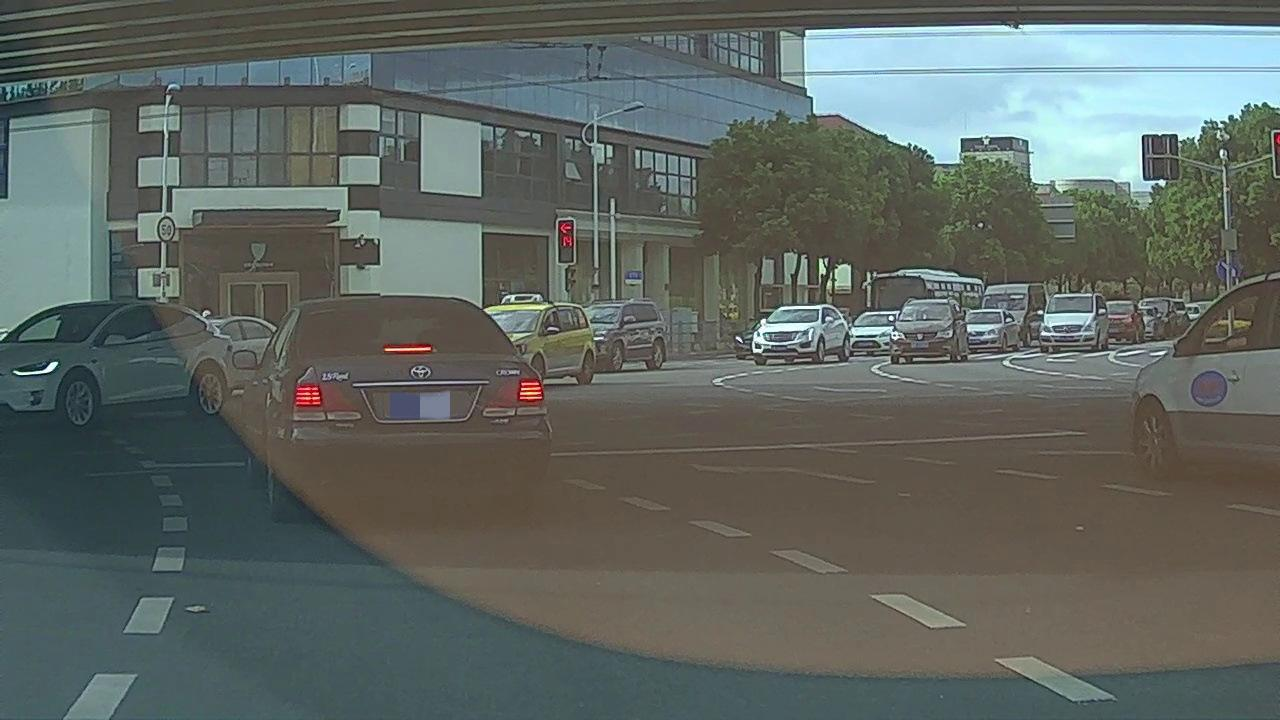traffic_light: (557, 219, 575, 264)
